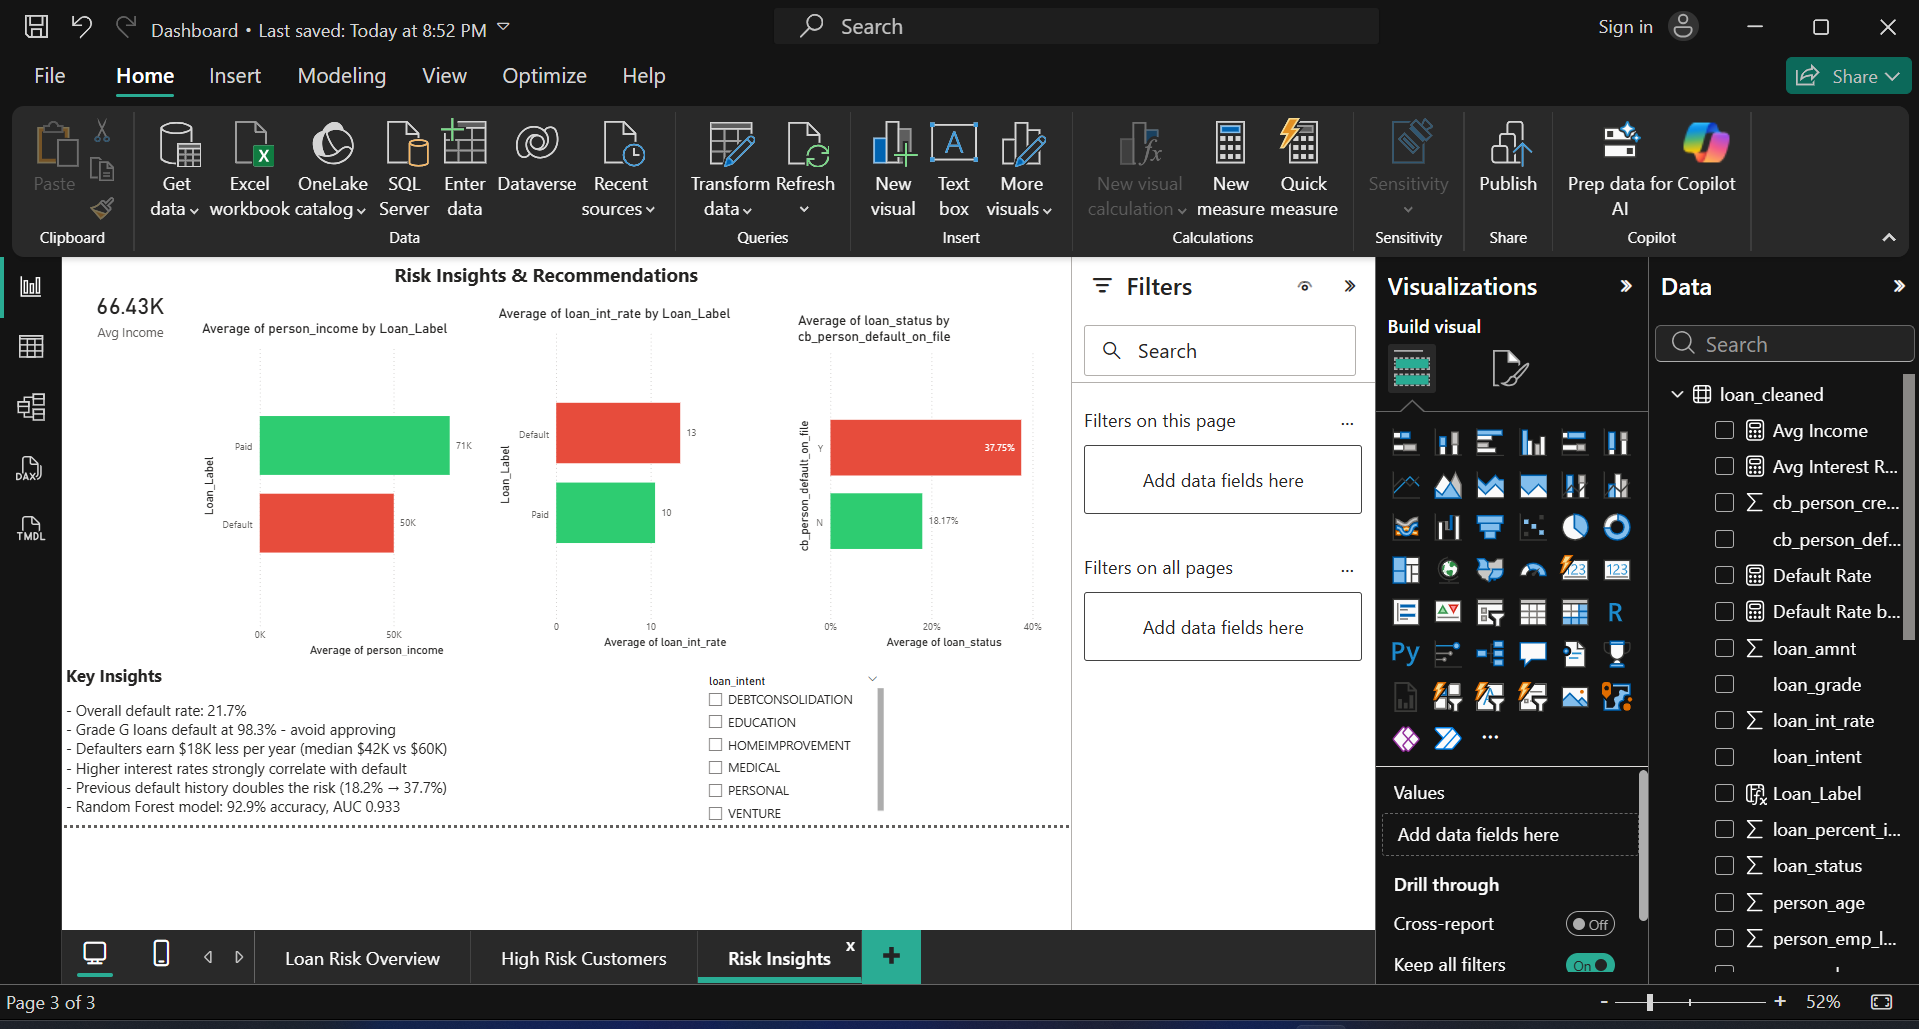

Layout of this report page (visuals, bound fields, positions):
{"tool":"powerbi","page":{"name":"Risk Insights","canvas":[1280,720],"ordinal":2},"visuals":[{"type":"card","fields":{"Values":["loan_cleaned.Avg Income"]},"box":[0,0,172.6,140],"z":0},{"type":"barChart","fields":{"Category":["loan_cleaned.Loan_Label"],"Y":["Avg(loan_cleaned.person_income)"]},"box":[172.6,80.5,389.3,429.6],"z":1},{"type":"barChart","fields":{"Category":["loan_cleaned.Loan_Label"],"Y":["Avg(loan_cleaned.loan_int_rate)"]},"box":[548.5,61.4,366.3,439.2],"z":2},{"type":"barChart","fields":{"Category":["loan_cleaned.cb_person_default_on_file"],"Y":["Avg(loan_cleaned.loan_status)"]},"box":[928.2,71,351,429.6],"z":3},{"type":"slicer","fields":{"Values":["loan_cleaned.loan_intent"]},"box":[807.4,524.4,239.7,195.6],"z":4},{"type":"textbox","box":[299.2,0,629,61.4],"z":6},{"type":"textbox","box":[0,510.1,640.5,209],"z":7}]}

Visuals, with their boxes on the page's 1280x720 design canvas (x1, y1, x2, y2). These are canvas units, not pixel positions in the 1919x1029 screenshot, which may show the page scaled, cropped or inside an application window:
card - loan_cleaned.Avg Income: bbox=[0, 0, 173, 140]
barChart - loan_cleaned.Loan_Label x Avg(loan_cleaned.person_income): bbox=[173, 80, 562, 510]
barChart - loan_cleaned.Loan_Label x Avg(loan_cleaned.loan_int_rate): bbox=[548, 61, 915, 501]
barChart - loan_cleaned.cb_person_default_on_file x Avg(loan_cleaned.loan_status): bbox=[928, 71, 1279, 501]
slicer - loan_cleaned.loan_intent: bbox=[807, 524, 1047, 720]
textbox: bbox=[299, 0, 928, 61]
textbox: bbox=[0, 510, 640, 719]
